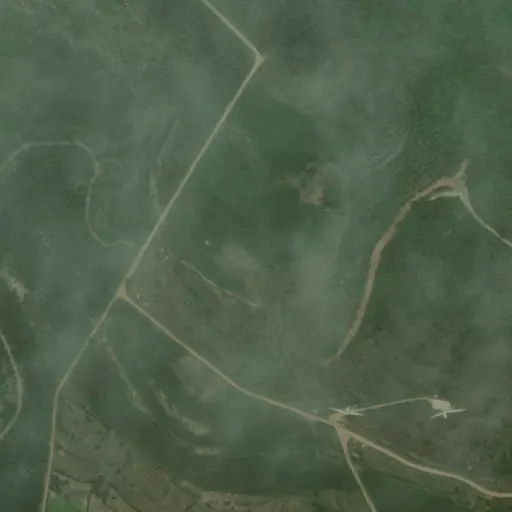wt: (432, 402, 465, 422), (322, 404, 366, 418)
